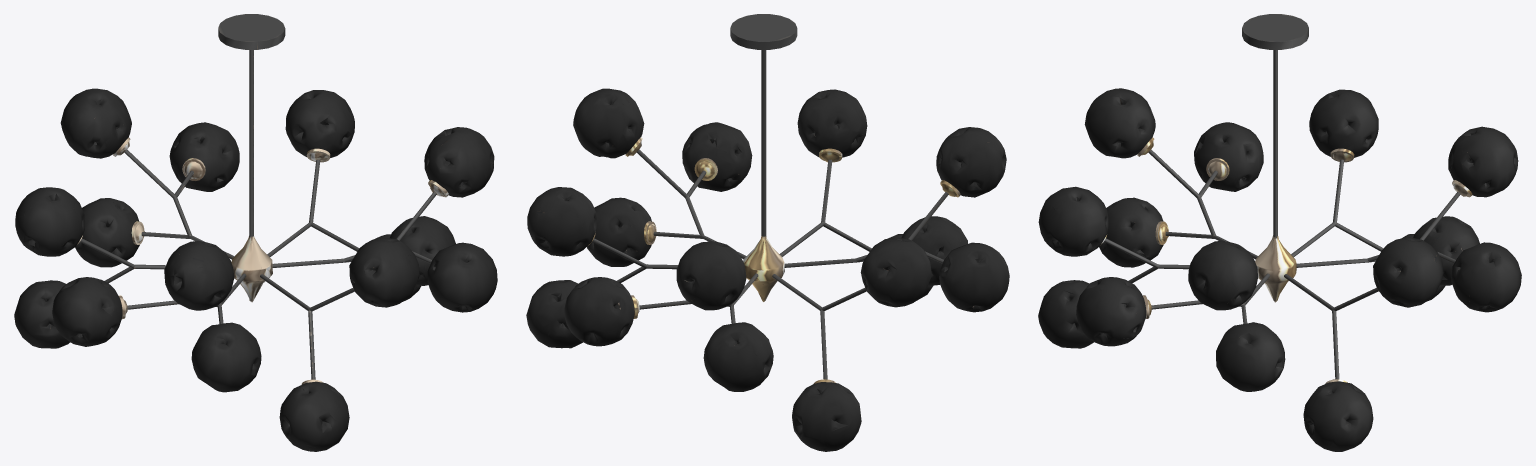
The picture shows the model from 3 angles, left to right: view 1: azimuth 30°, elevation 25°; view 2: azimuth 150°, elevation 25°; view 3: azimuth 270°, elevation 25°; orthographic projection.
Parts seen in each view (by area): view 1: glass_001, solid_001, solid_002; view 2: glass_001, solid_001, solid_002; view 3: glass_001, solid_001, solid_002.
Part boxes in pixels (x1,y1,x2,y2): glass_001: (14,88,497,451); solid_001: (80,14,436,379); solid_002: (77,137,448,384); glass_001: (526,88,1009,451); solid_001: (592,14,948,379); solid_002: (588,137,960,383); glass_001: (1038,88,1521,451); solid_001: (1104,14,1460,379); solid_002: (1100,137,1472,383).
Size of the model in its own units: 1.6 by 1.2 by 1.56.
Materials: 1 (1 with a texture image).
